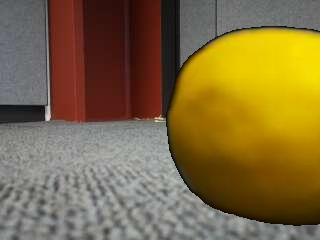lemon: (167, 27, 320, 224)
